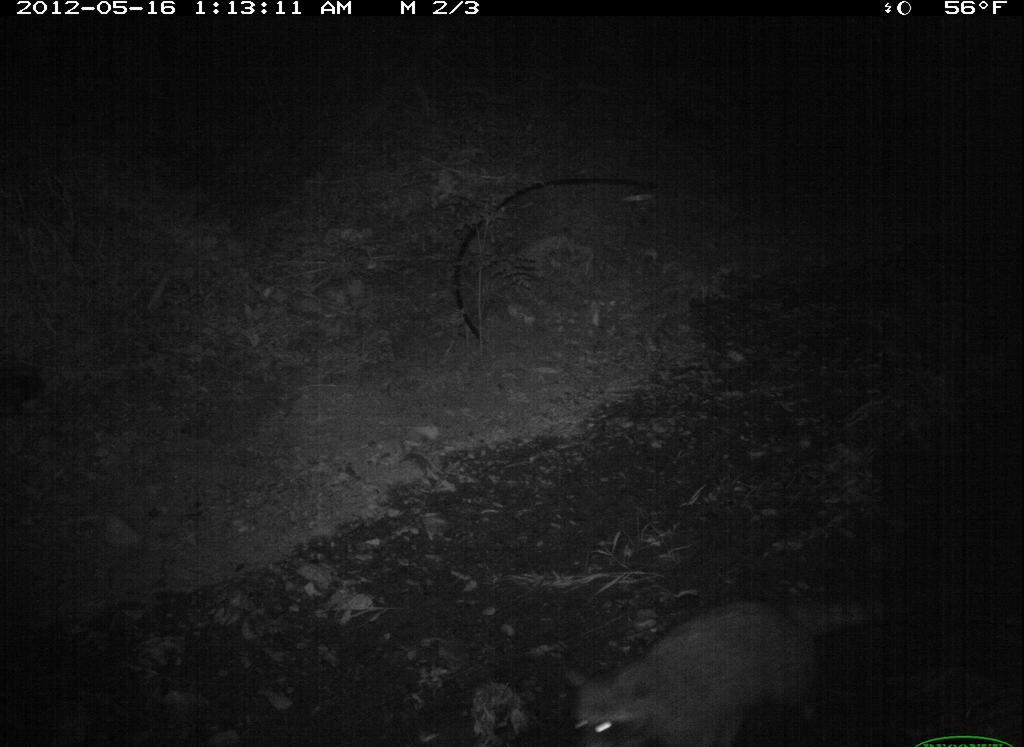raccoon: (542, 564, 865, 747)
